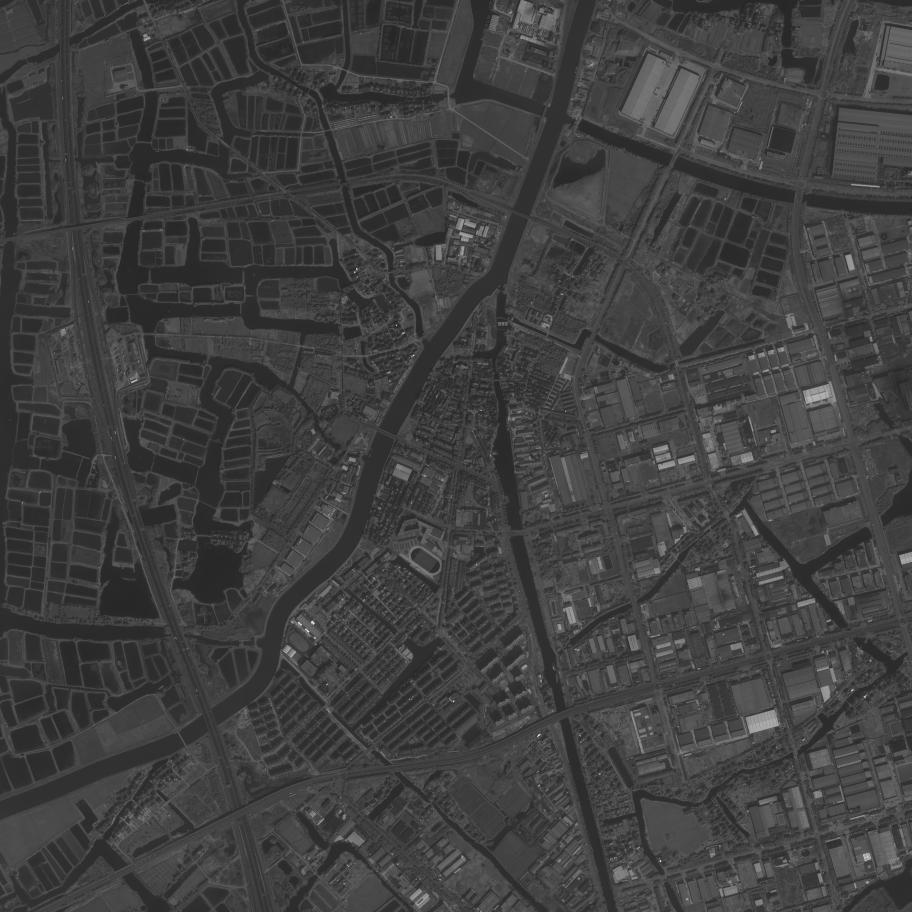ship: (552, 662, 558, 671), (551, 666, 555, 671), (556, 674, 558, 683)
